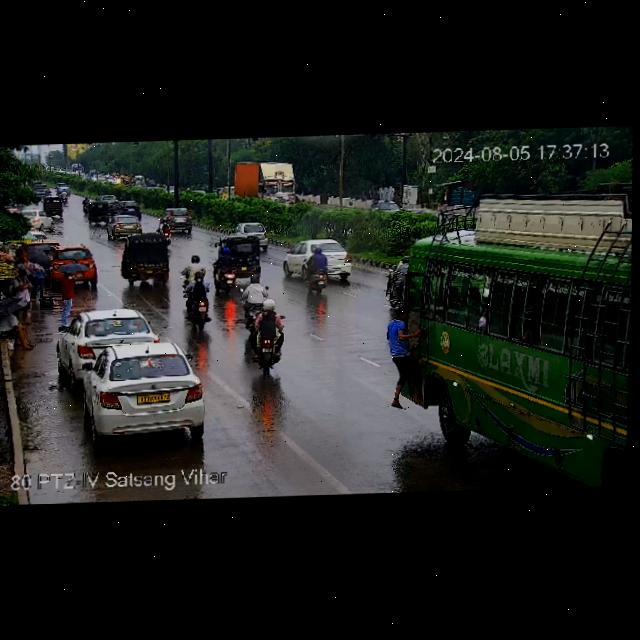bus: (388, 193, 634, 468)
car: (67, 342, 209, 440), (60, 308, 157, 366), (117, 233, 176, 285), (213, 235, 271, 285), (290, 239, 358, 277), (54, 248, 97, 284), (22, 238, 61, 266), (230, 221, 267, 247), (108, 213, 146, 235), (22, 209, 55, 230), (86, 200, 114, 224), (367, 198, 400, 218), (159, 216, 195, 234), (43, 196, 71, 217), (164, 207, 199, 222), (119, 201, 143, 217), (186, 185, 206, 201), (97, 197, 119, 211), (30, 184, 50, 197), (56, 183, 72, 194), (146, 178, 156, 189)
motorcycle: (239, 298, 288, 372), (229, 271, 278, 345), (179, 268, 214, 326), (300, 248, 332, 290), (182, 252, 200, 276)
person: (0, 306, 39, 349), (27, 255, 47, 301), (60, 270, 73, 321)
truck: (230, 158, 298, 204)
